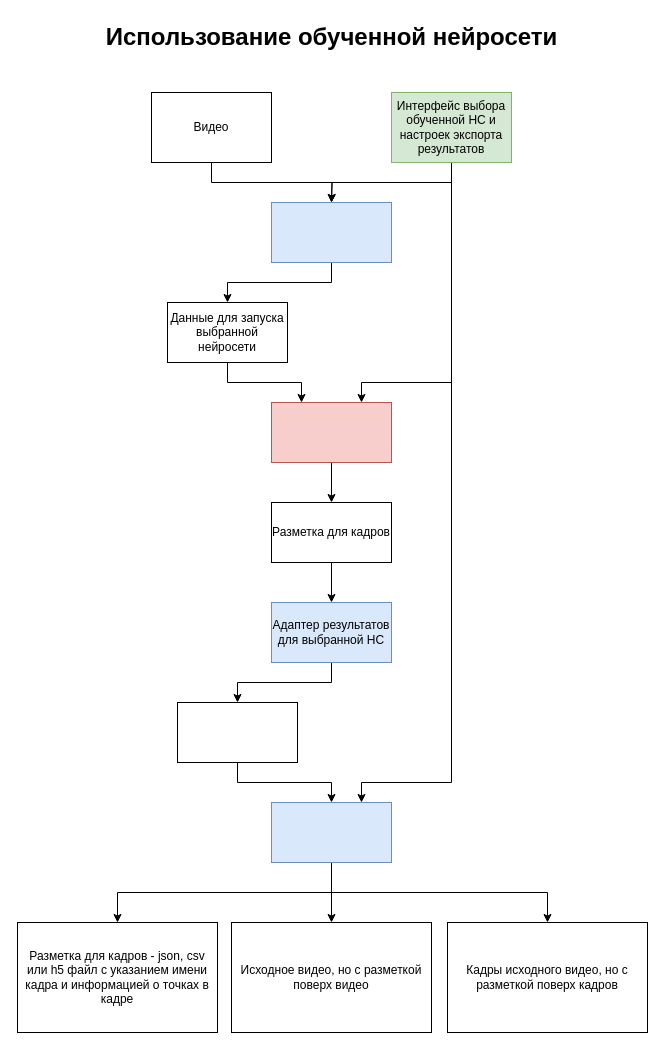
This 665x1050 diagram has some shape labels left out. The box of each missing label's shape, as (x1, y1, x2, y2) in pixels:
Адаптер данных для выбранной НС: (270, 202, 392, 262)
Обученная нейросеть: (270, 402, 392, 462)
Унифицированная разметка для видео: (176, 702, 298, 762)
Экспортёр: (270, 802, 392, 862)
